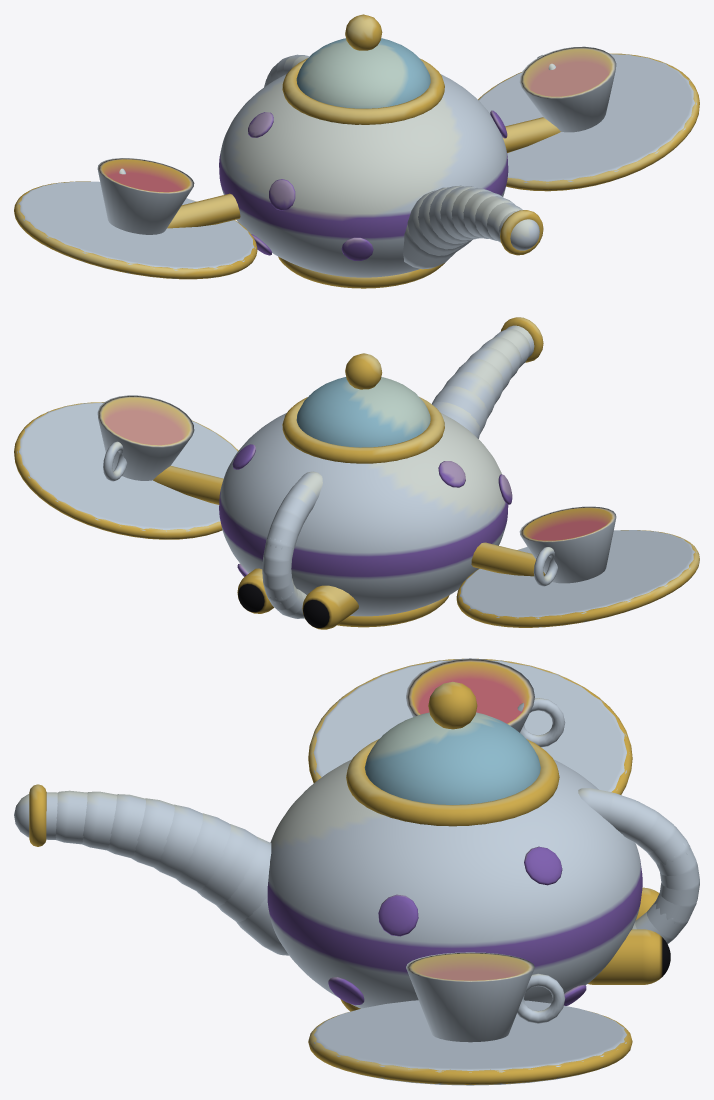
The model's file is teapot-starfighter-1.obj.
3 renders of one model, top to bottom at view 1: azimuth 30°, elevation 25°; view 2: azimuth 150°, elevation 25°; view 3: azimuth 270°, elevation 25°, orthographic. The views are drawn at different scales.
Parts seen in each view (by area): view 1: starfighter; view 2: starfighter; view 3: starfighter.
Part boxes in pixels (<box>): starfighter: <box>14,14,699,288</box>; starfighter: <box>14,317,699,629</box>; starfighter: <box>14,658,699,1085</box>.
Size of the model in its own units: 281 by 98.03 by 195.
